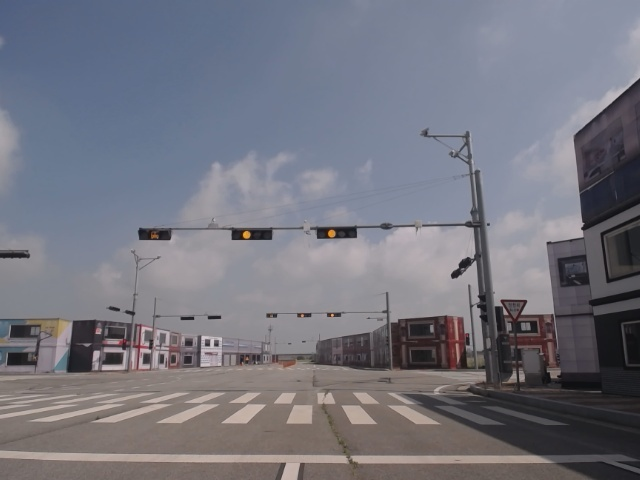orange_4: (231, 228, 273, 240), (316, 227, 357, 239)
